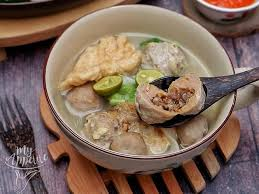bakso: (66, 39, 218, 155)
